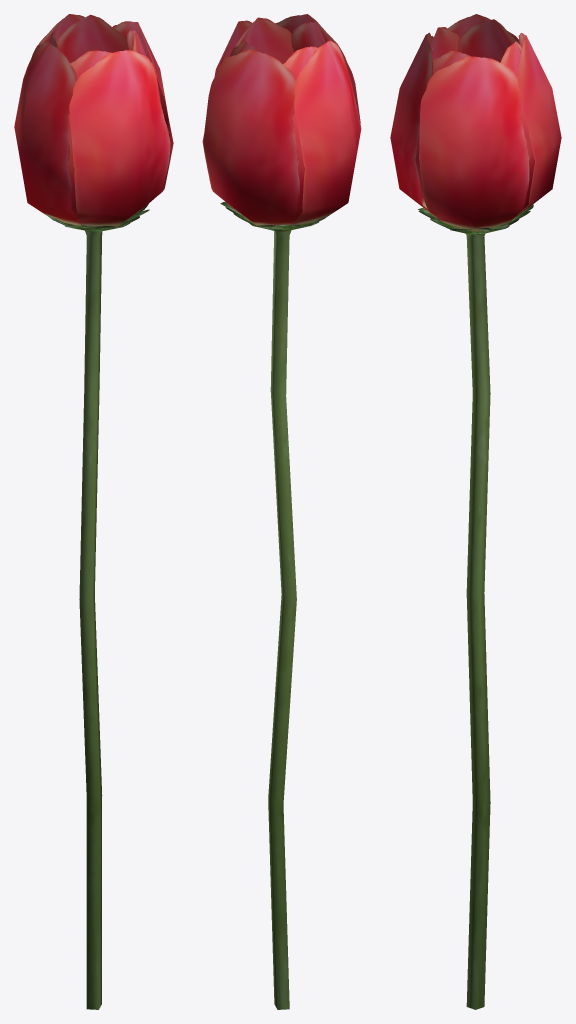
File: Tulip_02.FBX
3 renders of one model, left to right at view 1: azimuth 30°, elevation 25°; view 2: azimuth 150°, elevation 25°; view 3: azimuth 270°, elevation 25°, orthographic.
Parts seen in each view (by area): view 1: Tulip_02; view 2: Tulip_02; view 3: Tulip_02.
Part boxes in pixels (bbox=[...]): Tulip_02: bbox=[14, 14, 173, 1009]; Tulip_02: bbox=[202, 14, 361, 1009]; Tulip_02: bbox=[390, 14, 561, 1009].
Size of the model in its own units: 0.1896 by 1.19 by 0.1896.
